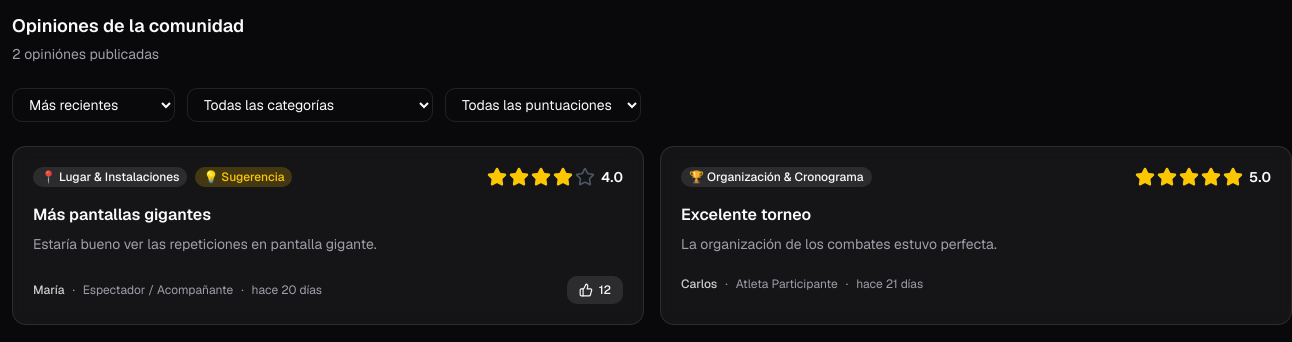
Test case: MuroOpiniones Component › debe filtrar correctamente por categoría
This screenshot has width=1292, height=342.
Select "🏆 Organización & Cronograma" in the dropdown named "Filtrar por categoría": (310, 105) [187,88,433,122]
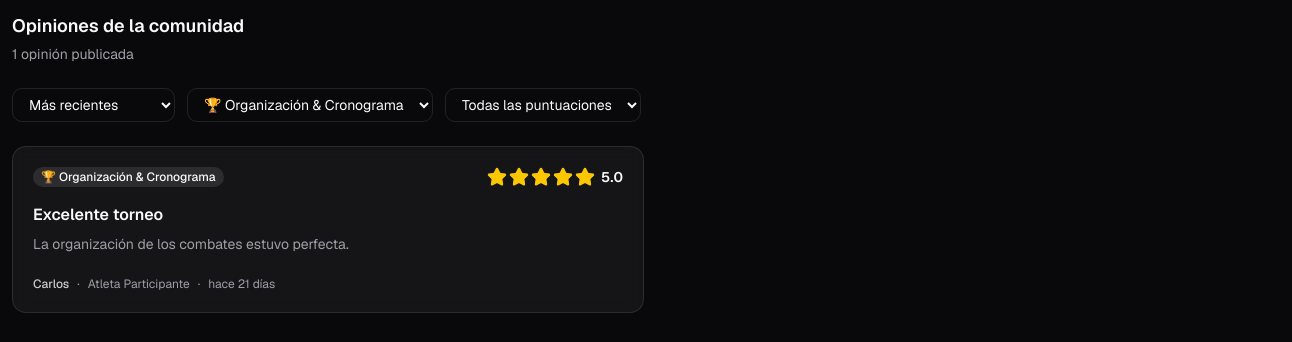
Expected: the heading "Excelente torneo" is shown, [33,204,163,225]
Expected: the heading "Más pantallas gigantes" is gone
